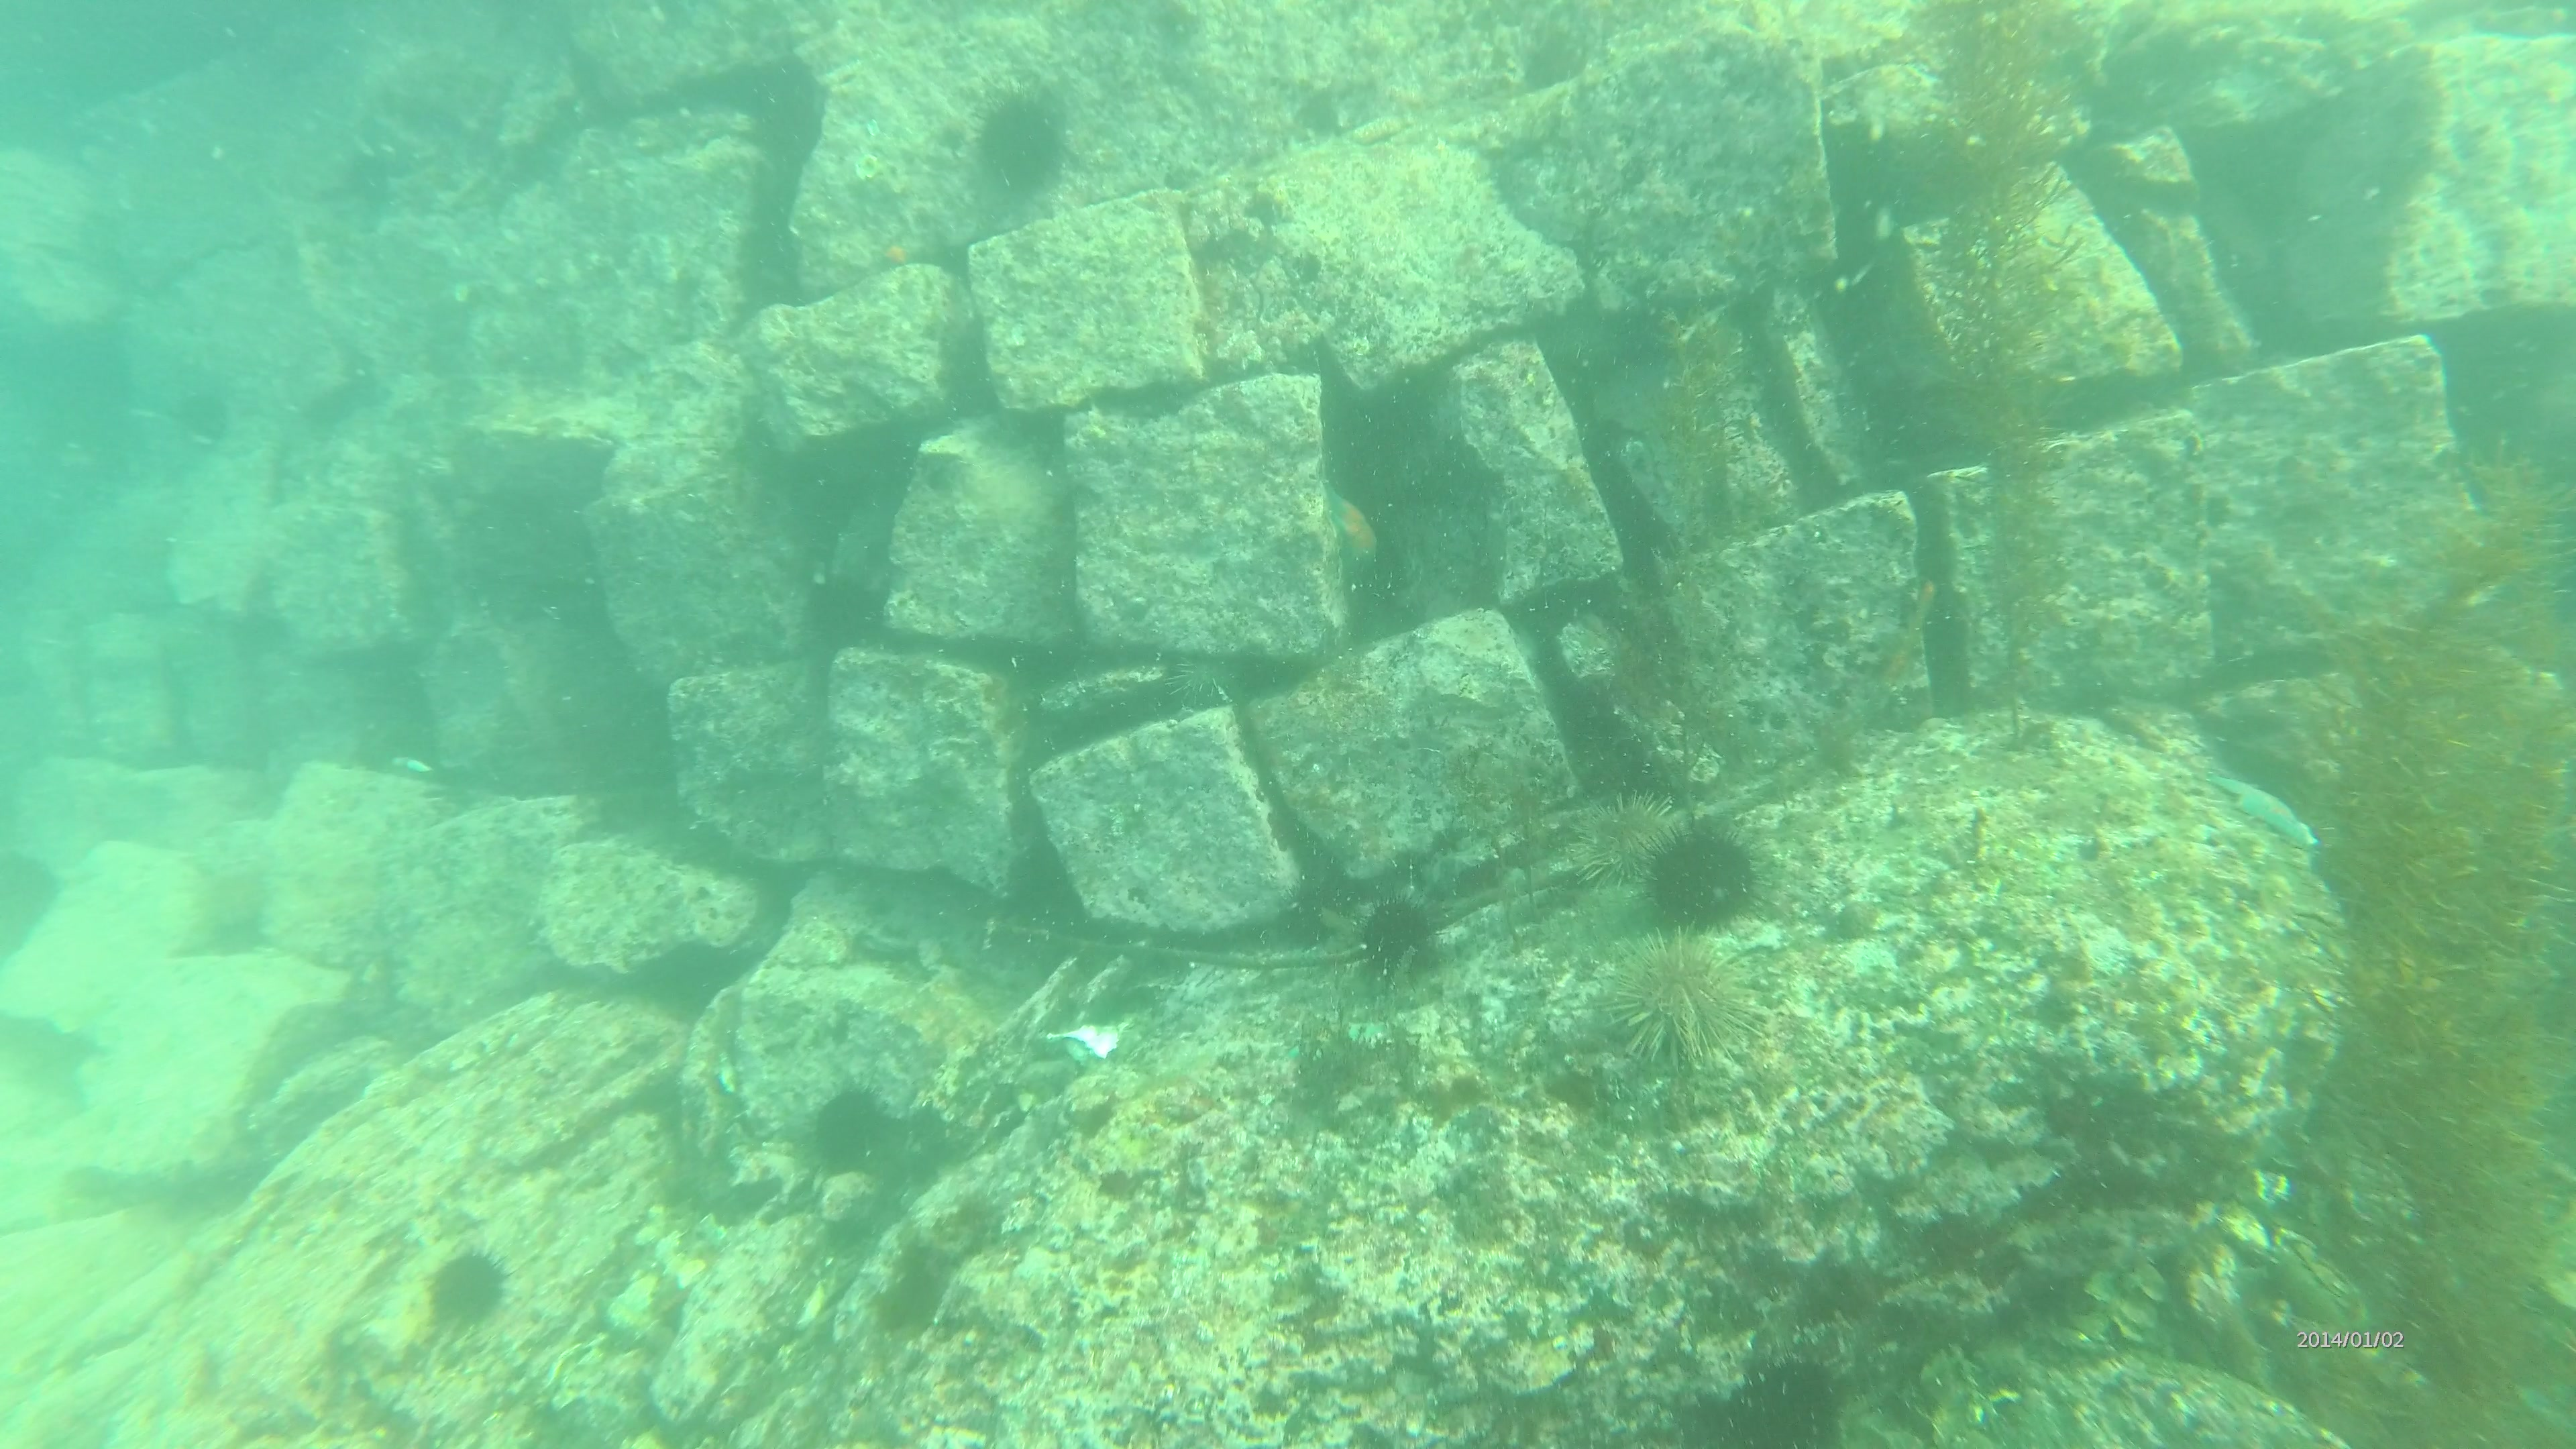echinus: (1587, 929, 1753, 1065), (971, 85, 1079, 209), (1557, 793, 1690, 892), (1647, 833, 1764, 936), (1348, 885, 1440, 996), (812, 1081, 893, 1185), (421, 1249, 517, 1336)
starfish: (2204, 757, 2334, 862), (1332, 483, 1387, 600)
